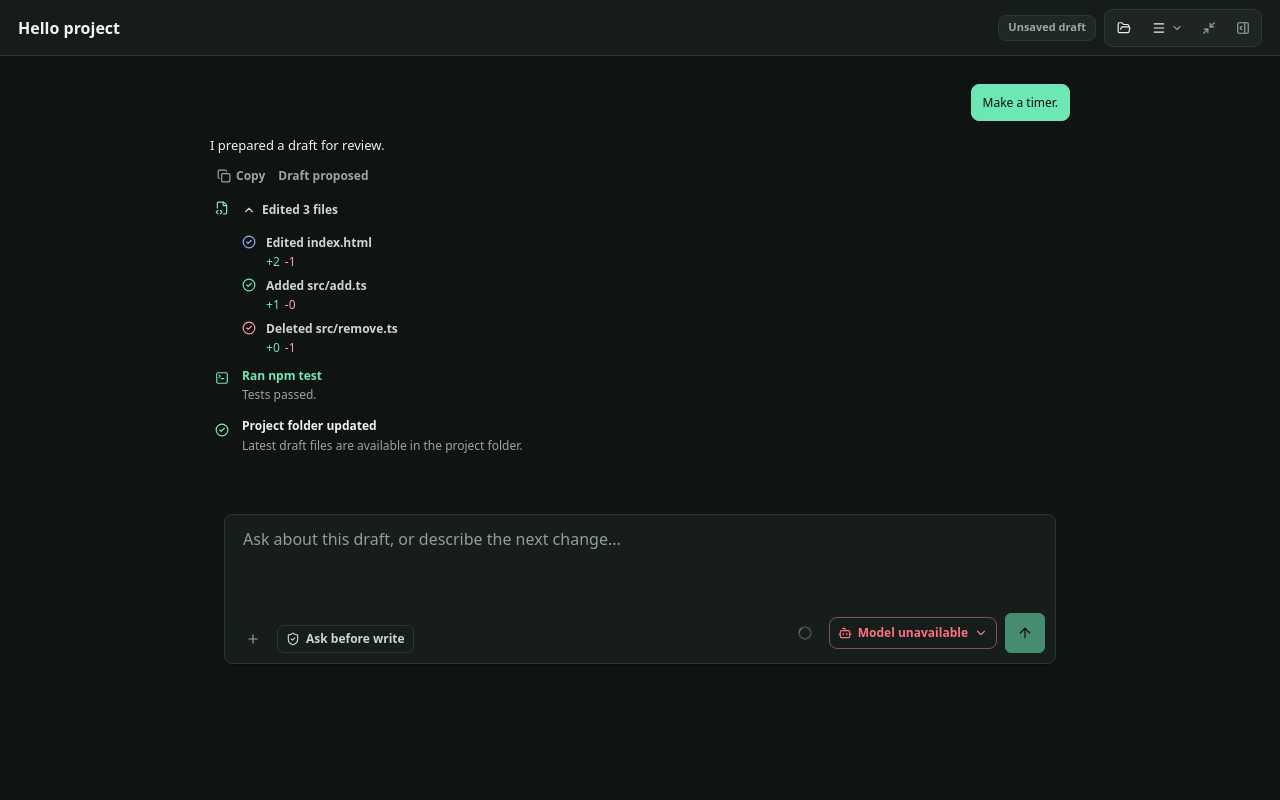
Test: BuilderPage v2 › shows concrete changed files and check commands that open their inspectors
This screenshot has width=1280, height=800.
Check: the list item that starts with "Edited" is shown, box [210, 196, 970, 359]
Check: the element showing "Copy Draft proposed" is shown, box [210, 163, 368, 189]
What coordinates should you click on to do the following:
click the button "Edited index.html +2 -1"
I would click on:
 (285, 243)
Its box is [266, 234, 970, 271].
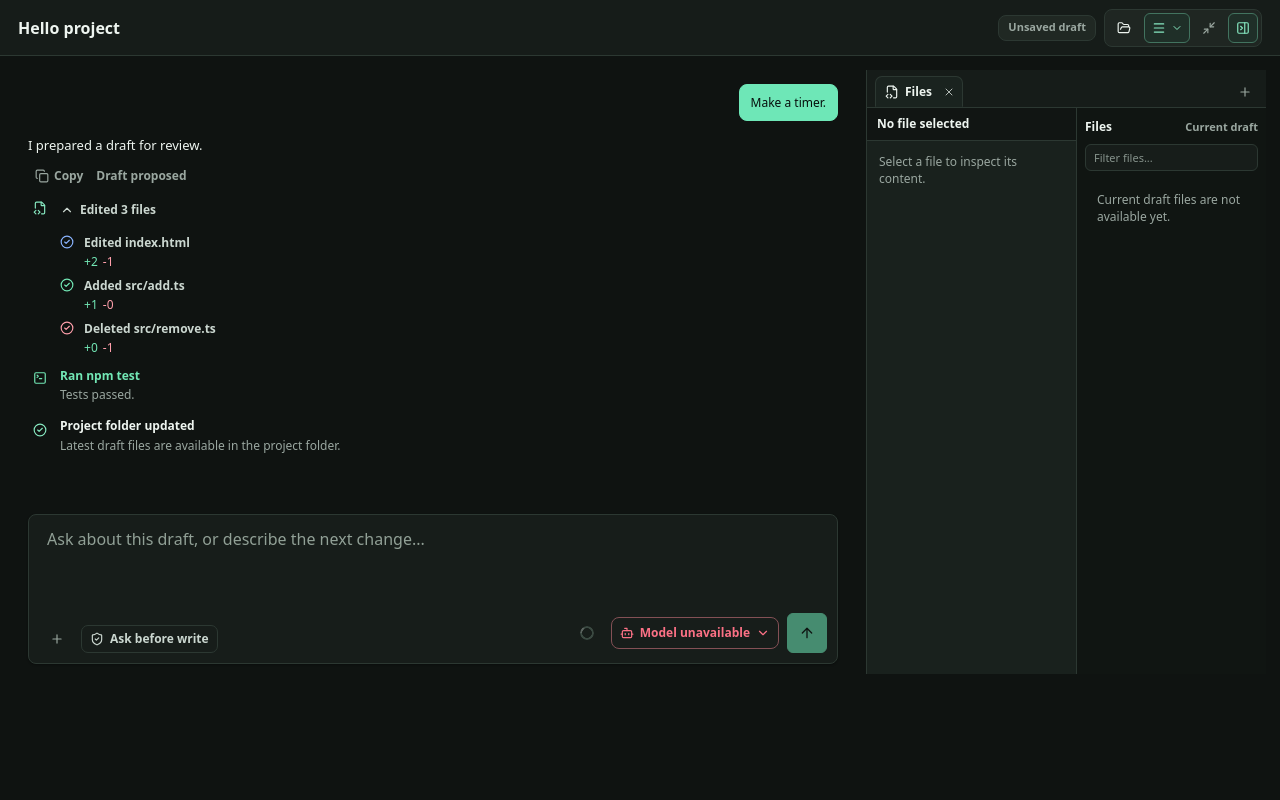
What coordinates should you click on to do the following:
click the button "Ran npm test Tests passed."
I would click on:
 (113, 376)
Its box is [60, 366, 788, 404].
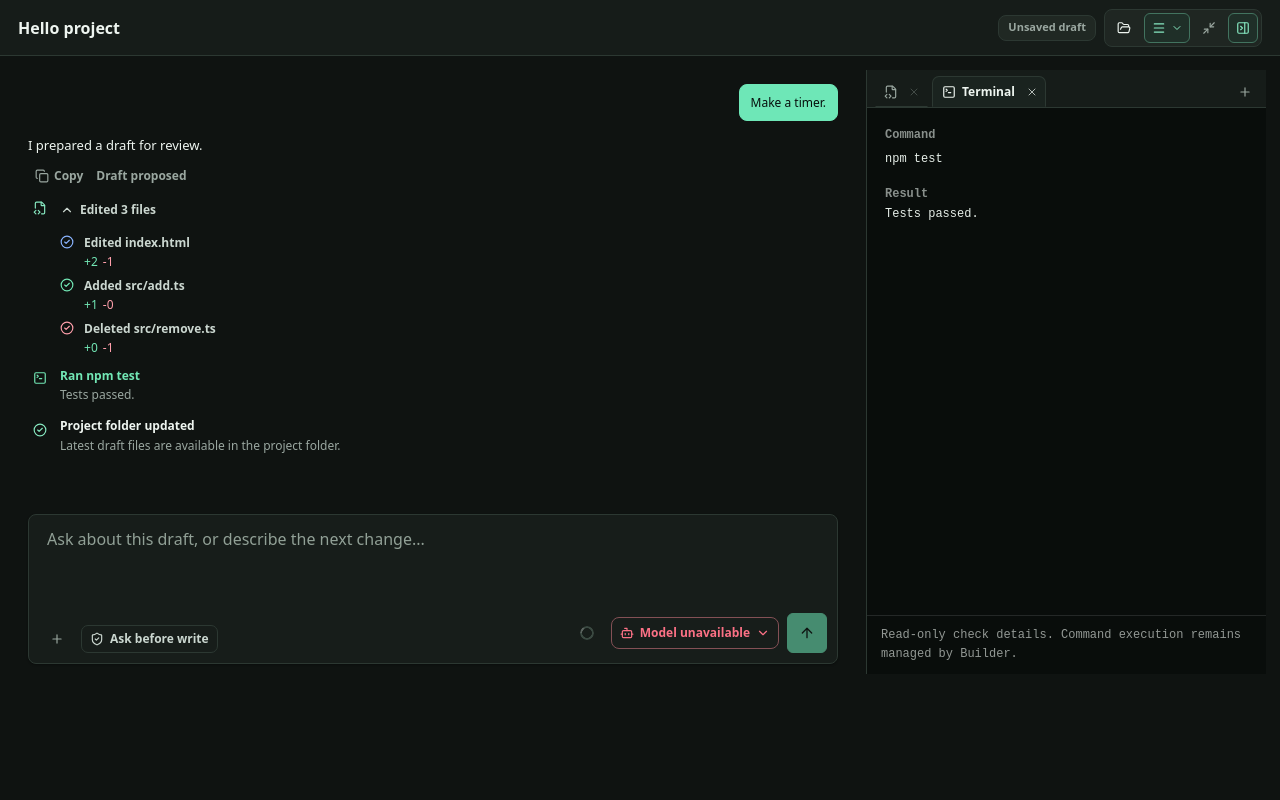
Check: the element named "Command details" is shown, box [867, 108, 1266, 674]
Check: the text "npm test" is shown, box [885, 152, 943, 166]
Check: the text "Tests passed." below "Result" is shown, box [885, 207, 979, 221]
